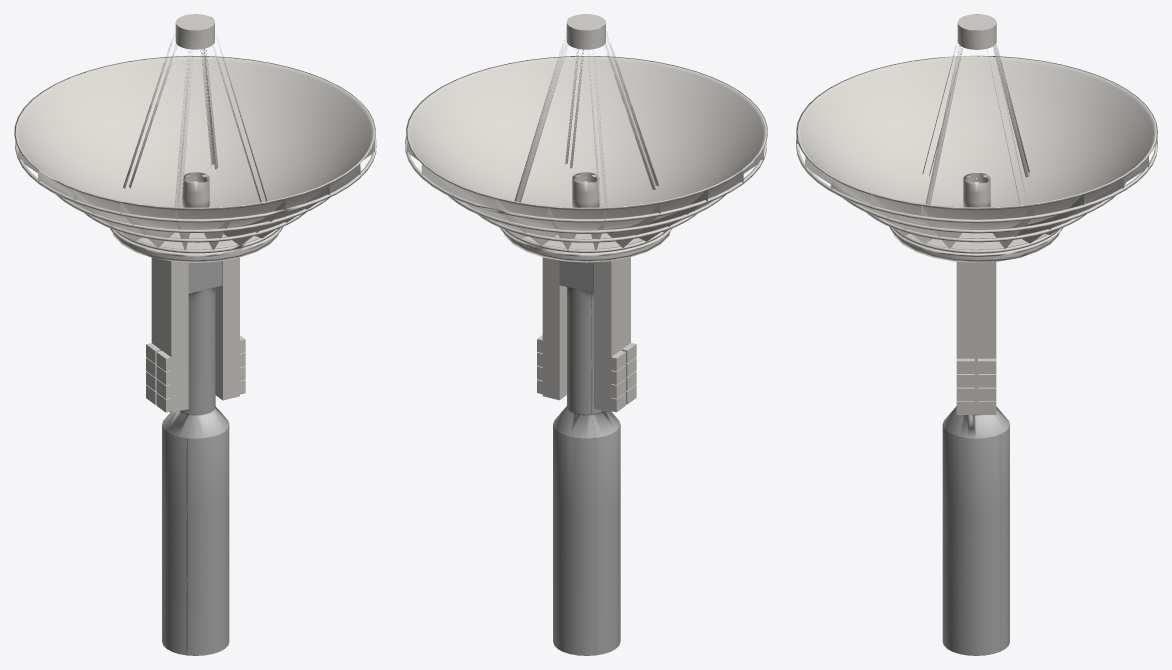
Rendered from antena-tall-dish.glb.
The picture shows the model from 3 angles, left to right: view 1: azimuth 30°, elevation 25°; view 2: azimuth 150°, elevation 25°; view 3: azimuth 270°, elevation 25°; orthographic projection.
Parts seen in each view (by area): view 1: Antenna_TallDish; view 2: Antenna_TallDish; view 3: Antenna_TallDish.
Part boxes in pixels (x1,y1,x2,y2): Antenna_TallDish: [14, 14, 376, 655]; Antenna_TallDish: [405, 14, 767, 655]; Antenna_TallDish: [796, 14, 1157, 655].
Bounding box in the file's own units: 2.66 × 5 × 2.65.
3 materials, 1 textured.
